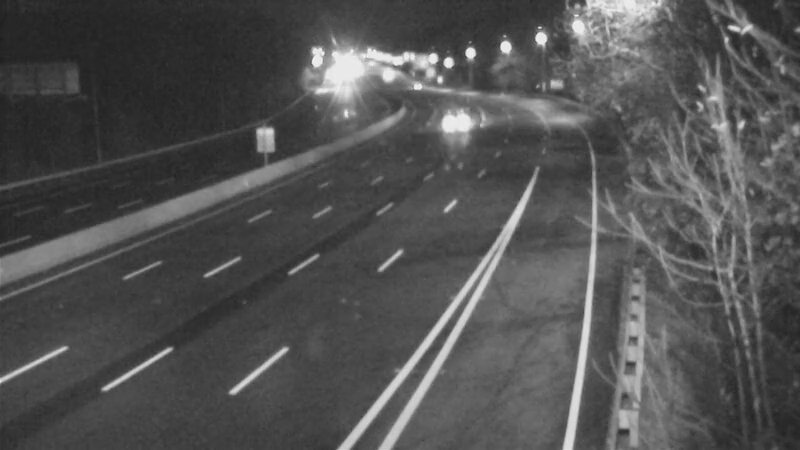vehicle: (363, 52, 413, 102), (390, 60, 440, 110), (439, 92, 489, 142)
